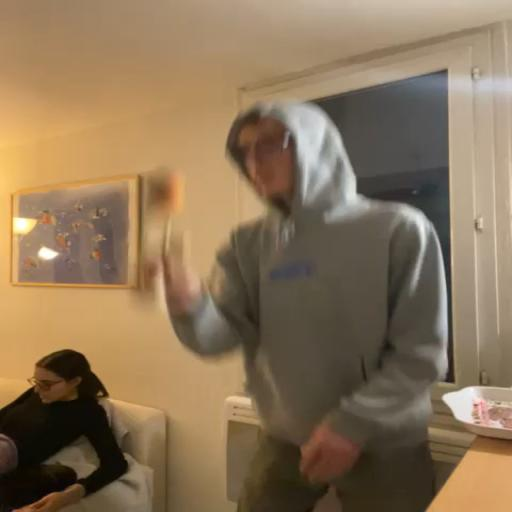kendama_ball: (144, 167, 184, 215)
